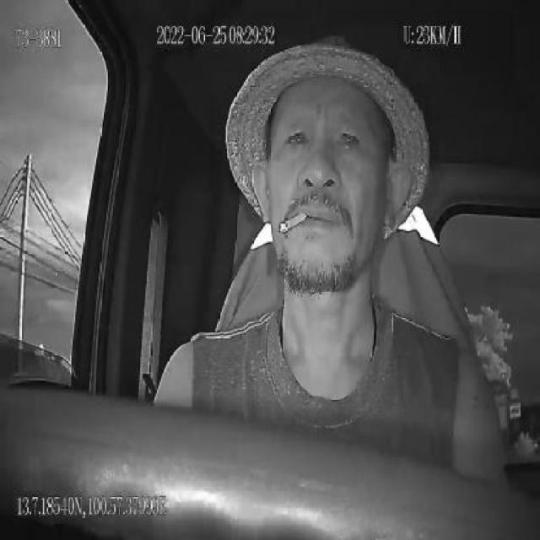smoking: (279, 211, 307, 235)
